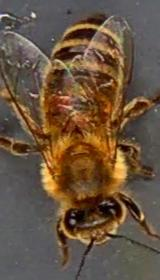varroa_mite: (44, 92, 72, 110)
